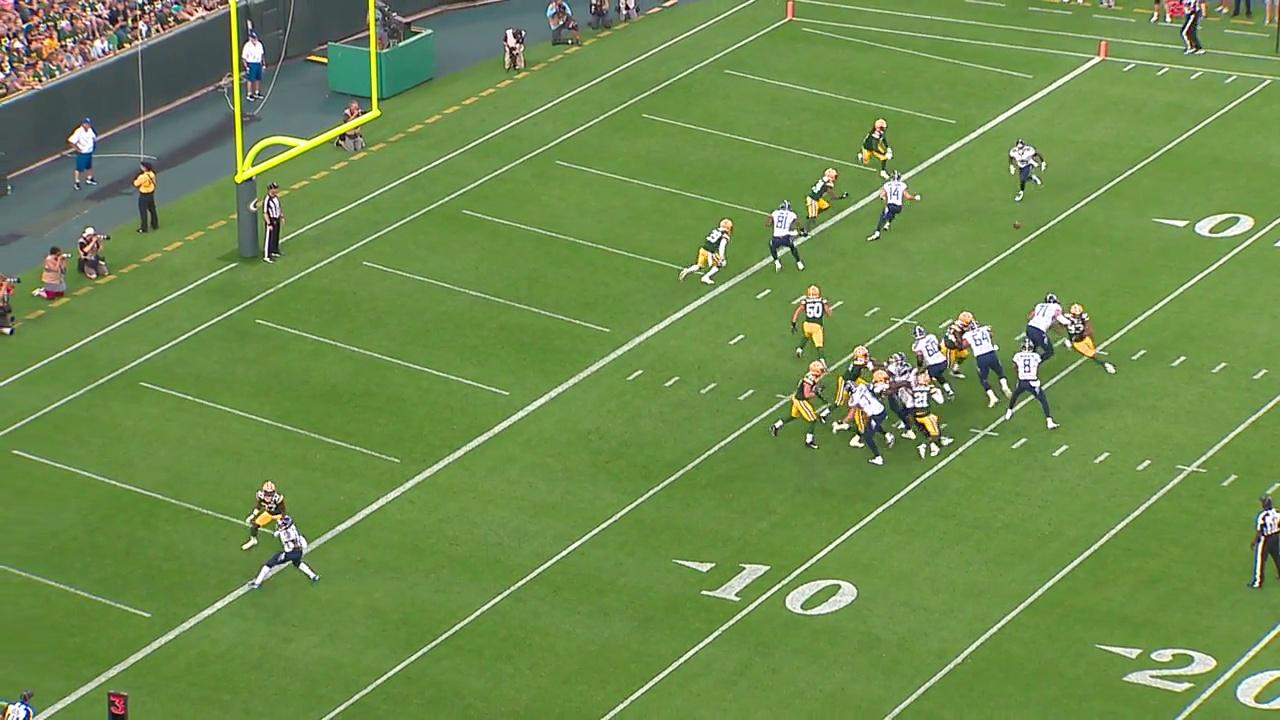five_hash: (969, 426, 999, 437), (1177, 463, 1207, 474), (890, 316, 918, 325)
hash: (1050, 442, 1071, 460), (1133, 455, 1153, 473), (662, 373, 682, 390), (735, 386, 755, 403), (1220, 472, 1240, 489), (1169, 352, 1188, 369), (1209, 358, 1228, 375), (697, 382, 719, 396), (1093, 448, 1111, 465), (862, 304, 882, 319), (753, 285, 771, 301), (1129, 347, 1148, 362), (1012, 435, 1029, 451), (626, 367, 644, 382), (1264, 479, 1280, 495), (1252, 367, 1270, 381), (788, 292, 806, 304)
number: (1088, 628, 1280, 713), (667, 545, 865, 627)
player: (1098, 39, 1109, 59), (785, 0, 796, 19)
